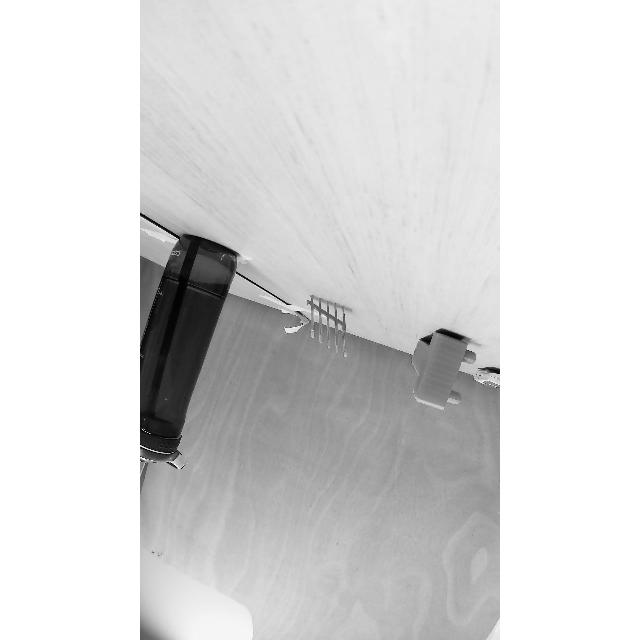targets: (140, 255, 246, 481), (407, 330, 477, 426), (306, 295, 356, 355), (470, 362, 500, 396)
